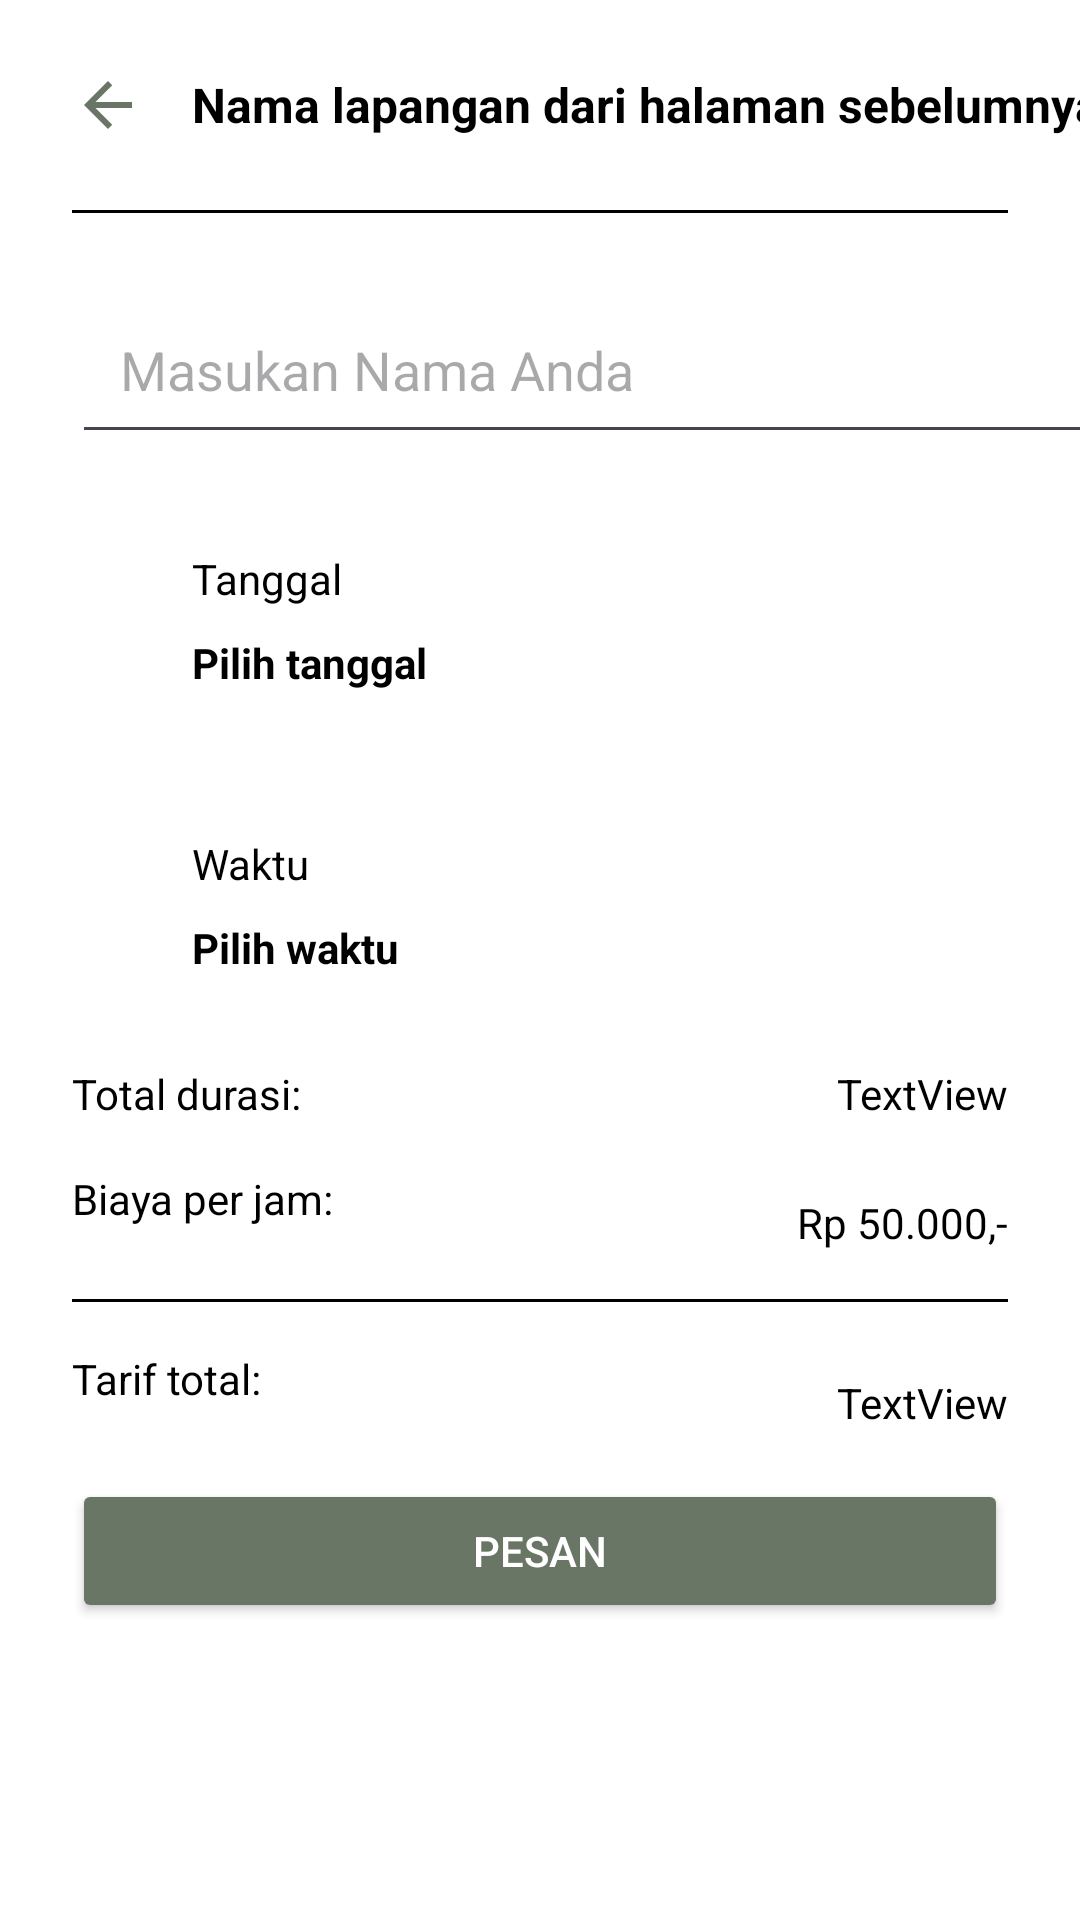

Where icons sit on this 1080px×1920px app screen, as (x1, y1, x2, y2):
kembali: (84, 81, 132, 129)
